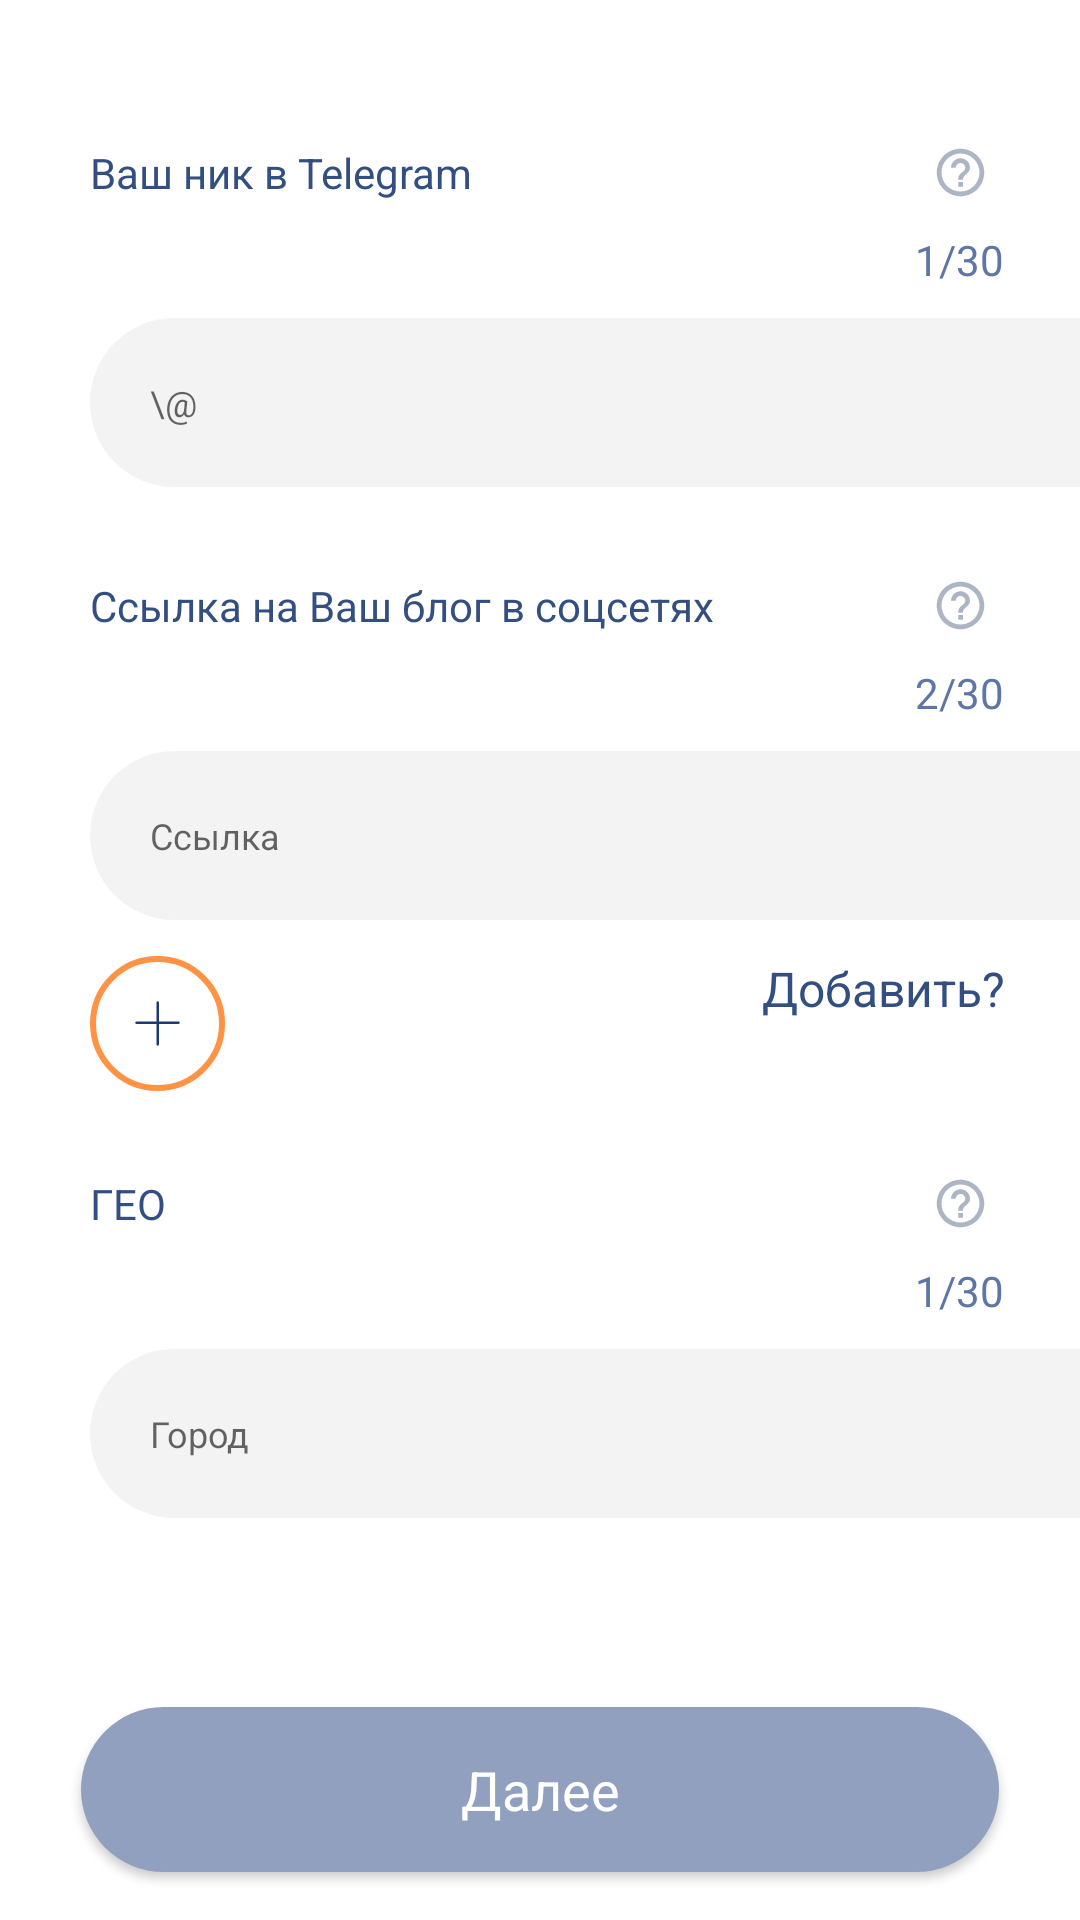

Icon click points for this 1080 × 1920 phone screenshot, format (x=x, y=y):
add: (x=157, y=1023)
help: (x=960, y=172), (x=960, y=605), (x=960, y=1203)
